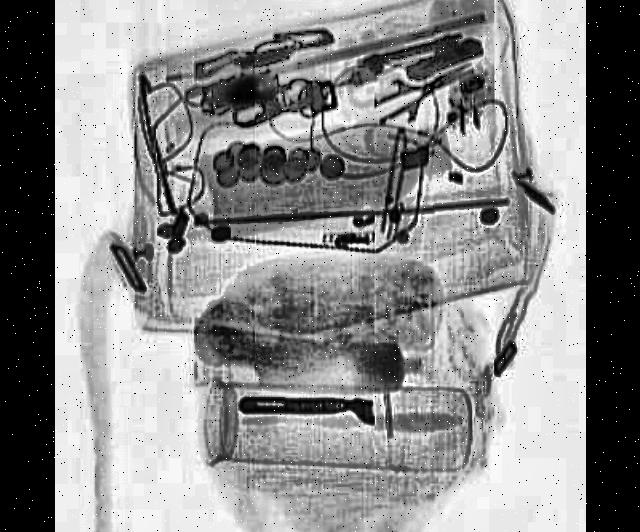Knife: (368, 46, 478, 140)
